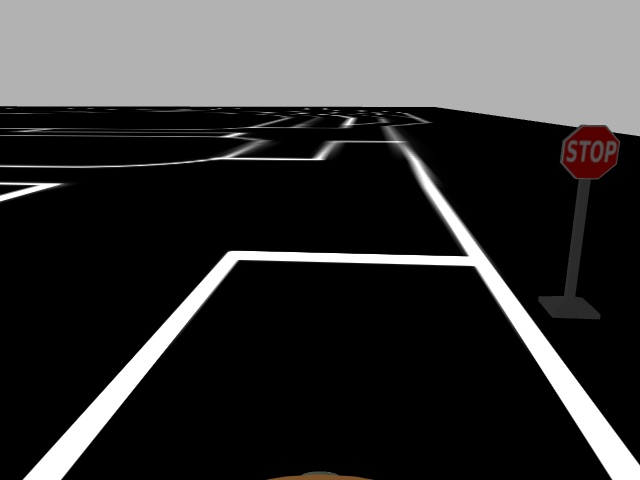stop: (557, 123, 624, 181)
